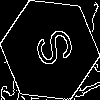S: (25, 25, 77, 74)
